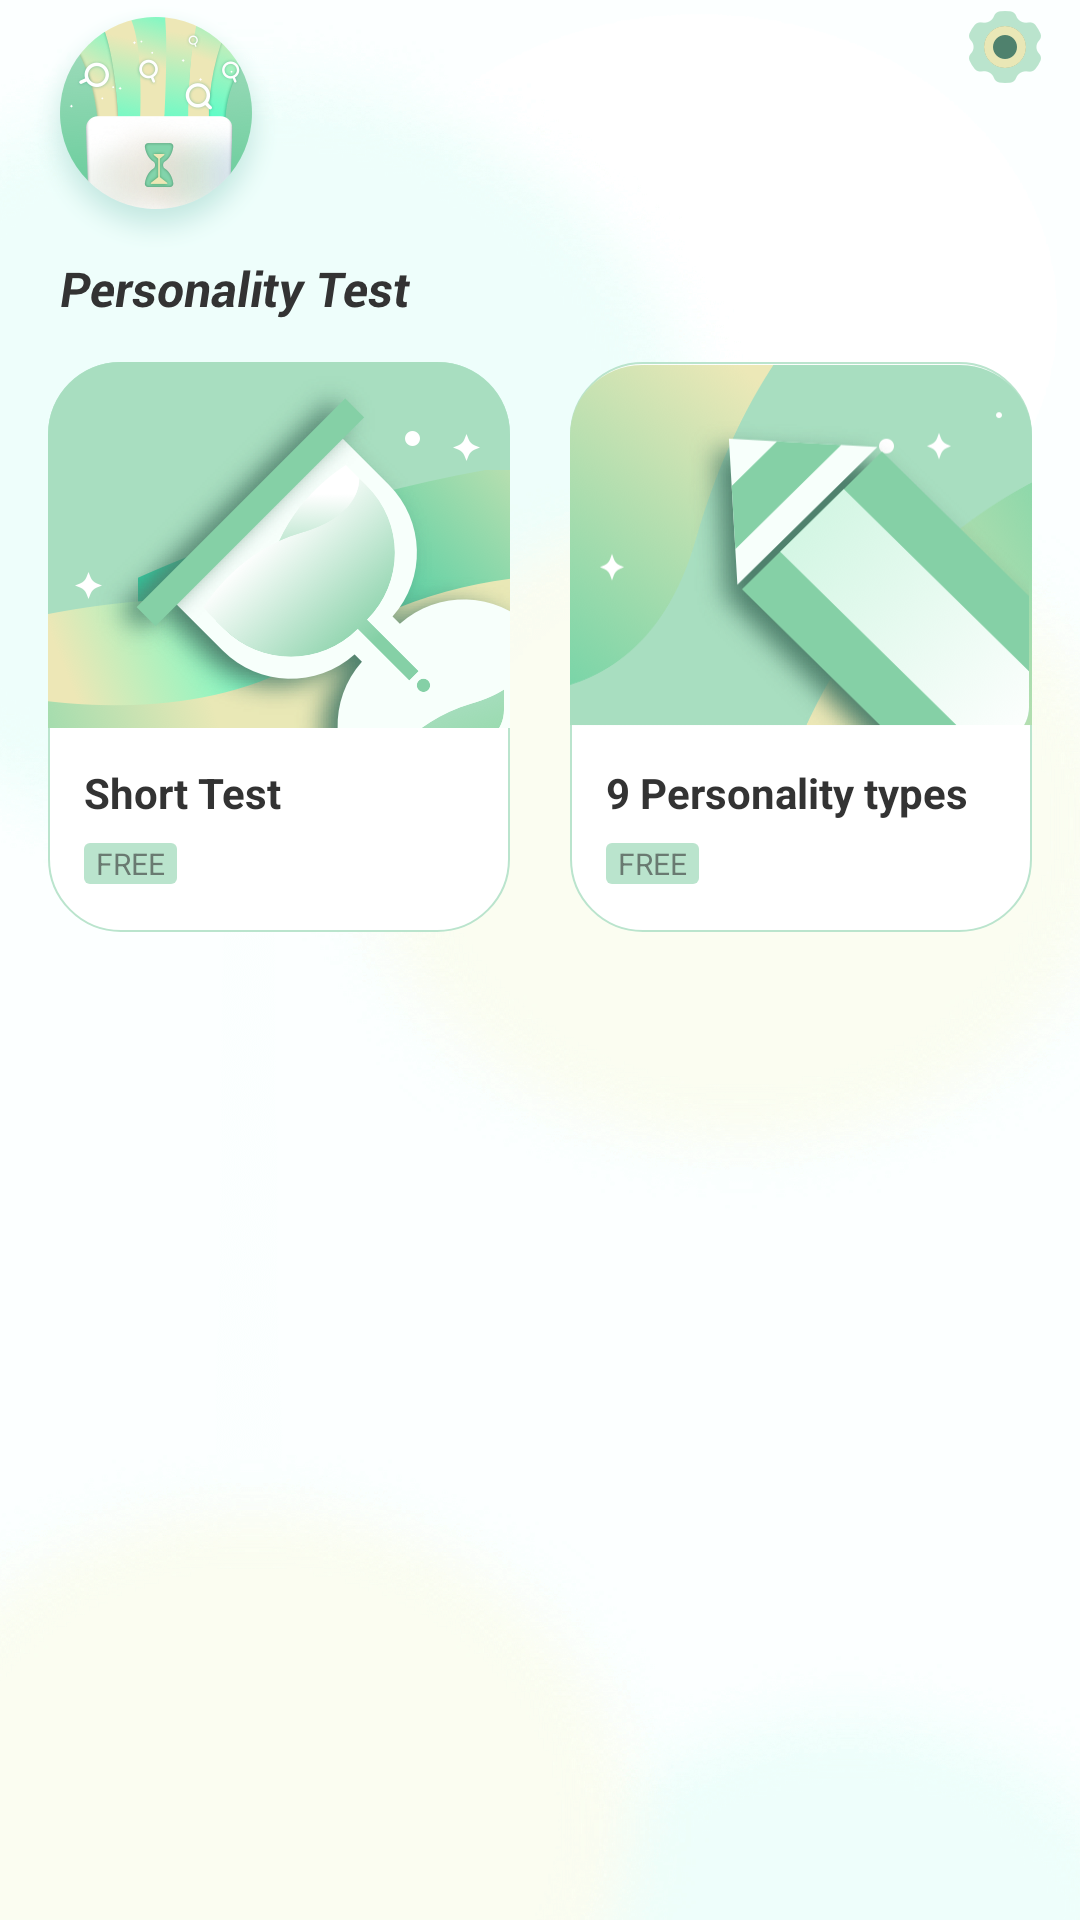

Point at icon controls on the screen. Image size 1080px×1920px, points as (x=x, y=y).
home set: (x=1005, y=47)
